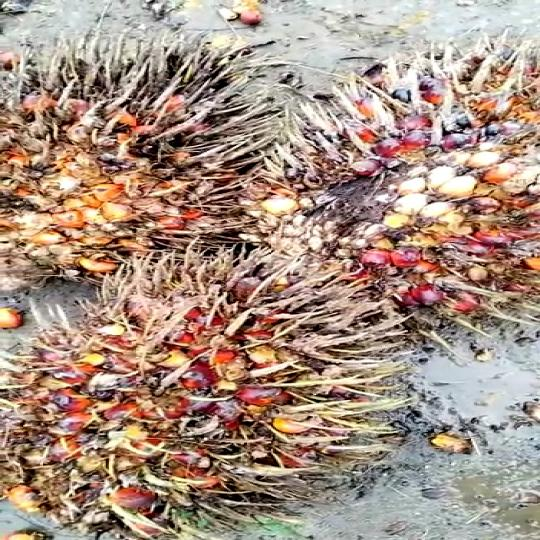terlalu masak: (253, 45, 540, 361), (0, 32, 305, 284)
